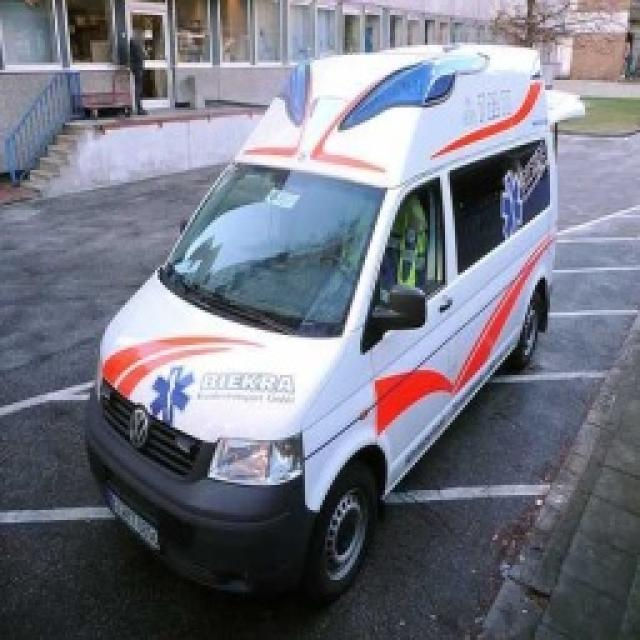emergency-vehicle: (80, 32, 560, 618)
